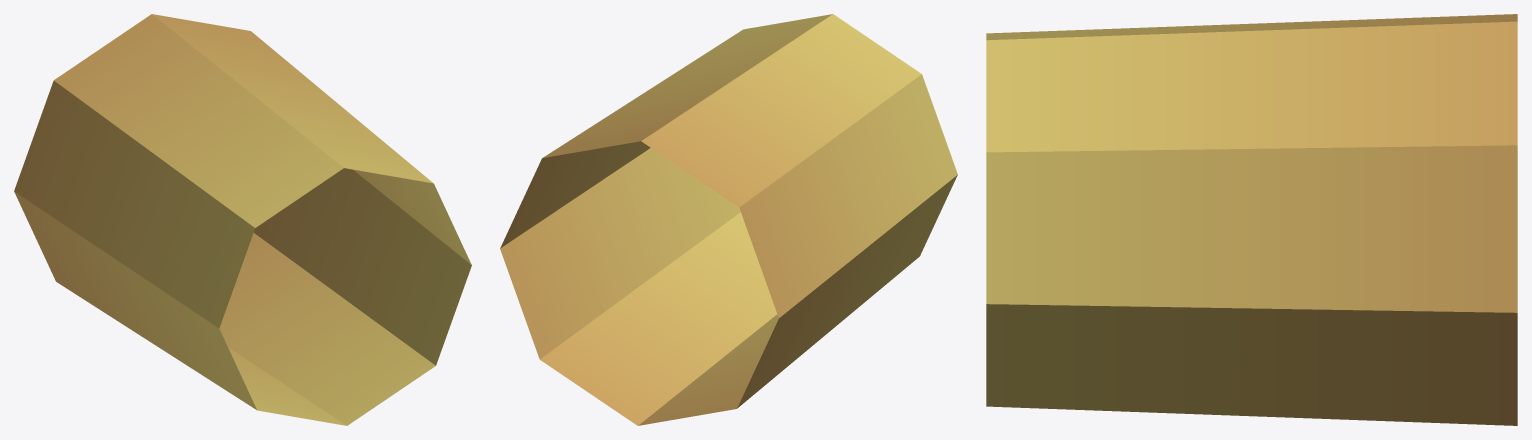
File: LanternLitUp.fbx
The picture shows the model from 3 angles, left to right: view 1: azimuth 30°, elevation 25°; view 2: azimuth 150°, elevation 25°; view 3: azimuth 270°, elevation 25°; orthographic projection. The views are drawn at different scales.
Parts seen in each view (by area): view 1: LanternLitUp; view 2: LanternLitUp; view 3: LanternLitUp.
Part boxes in pixels (x1,y1,x2,y2): LanternLitUp: (14,14,471,425); LanternLitUp: (500,14,957,425); LanternLitUp: (986,14,1517,425).
Bounding box in the file's own units: 21.33 × 20.86 × 25.45.
